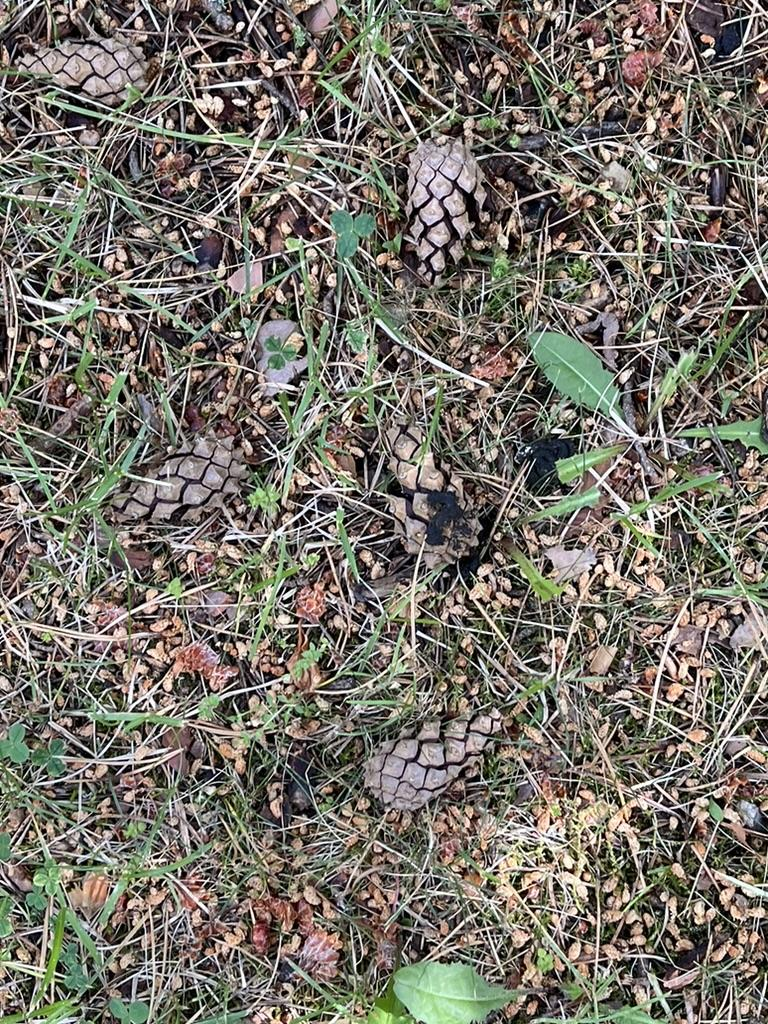pine: (378, 393, 496, 580), (358, 698, 518, 830), (116, 418, 266, 543), (398, 128, 501, 283), (11, 20, 161, 116)
